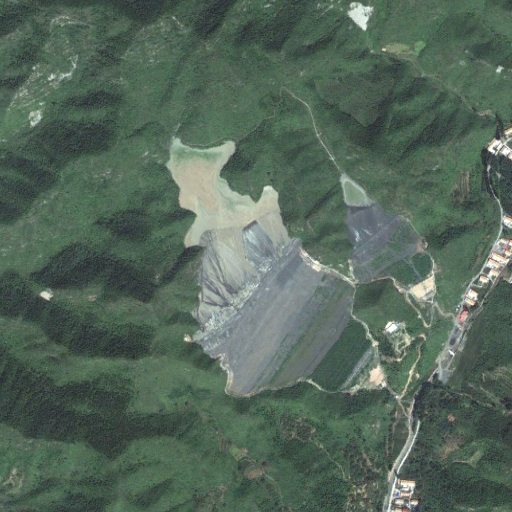tp: (162, 139, 357, 402), (341, 175, 436, 303)
